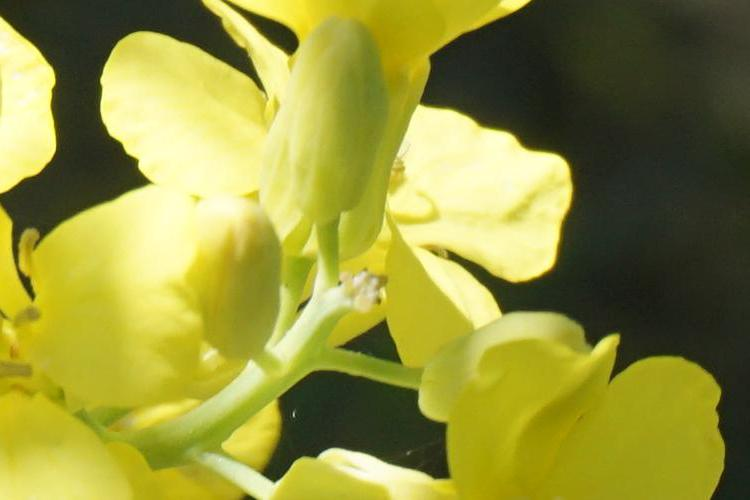bud: (261, 21, 385, 226), (194, 201, 293, 374)
yellow: (104, 44, 546, 275), (412, 297, 731, 492), (2, 205, 175, 488)
